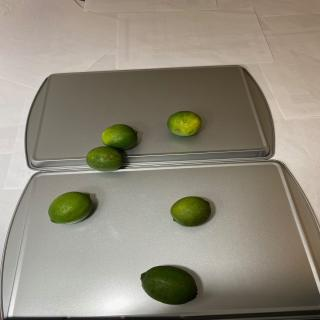Apple: (170, 196, 211, 227)
Lemon: (140, 265, 198, 305), (48, 192, 93, 224), (85, 146, 124, 172), (102, 124, 138, 150), (167, 110, 202, 136)
